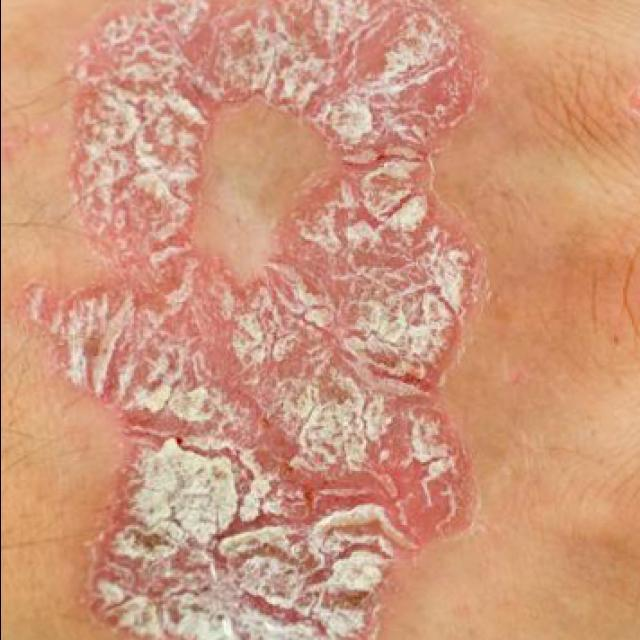Psoriasis: (31, 0, 482, 640)
